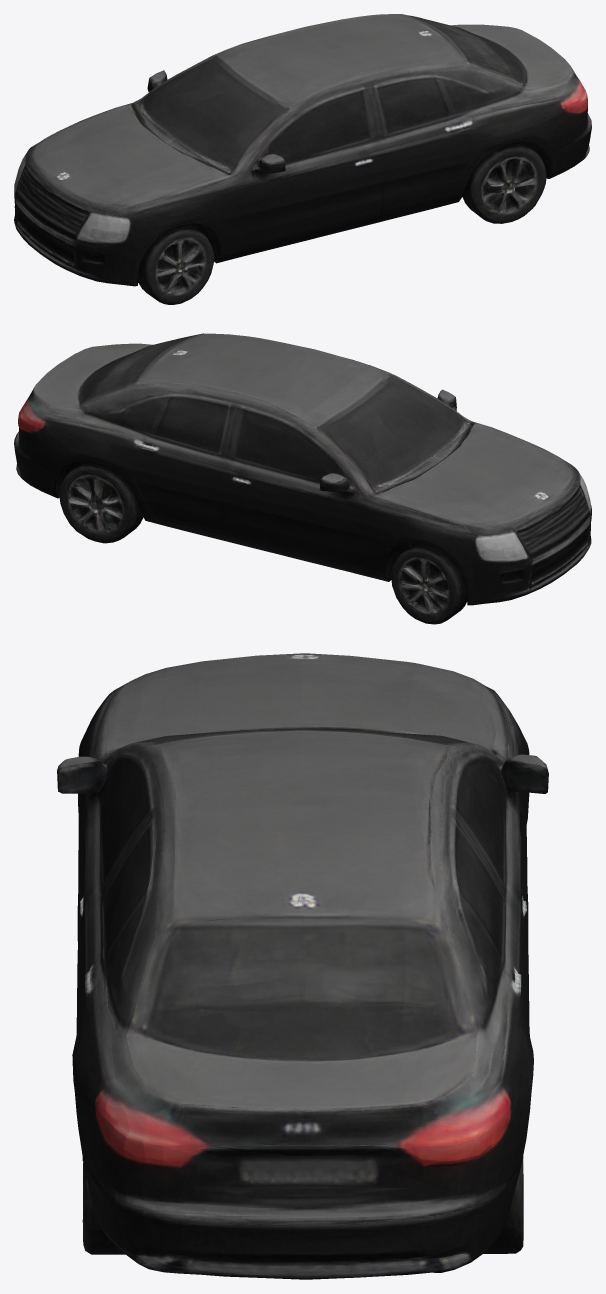
The model's file is sedan.glb.
The picture shows the model from 3 angles, top to bottom: view 1: azimuth 30°, elevation 25°; view 2: azimuth 150°, elevation 25°; view 3: azimuth 270°, elevation 25°; orthographic projection. The views are drawn at different scales.
Parts seen in each view (by area): view 1: world; view 2: world; view 3: world.
Boxes of the visible parts, <box> form: world: <box>14,14,591,304</box>; world: <box>14,333,591,624</box>; world: <box>57,653,548,1279</box>.
Bounding box in the file's own units: 0.9999 × 0.3017 × 0.4039.
1 material, 1 textured.
